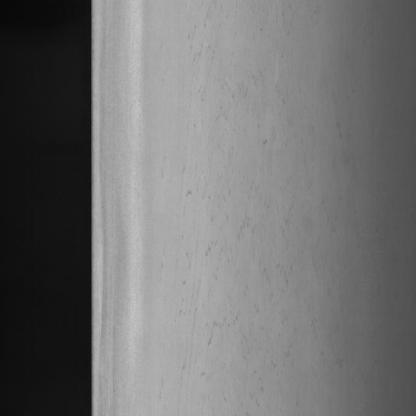silk_spot: (167, 0, 300, 356)
